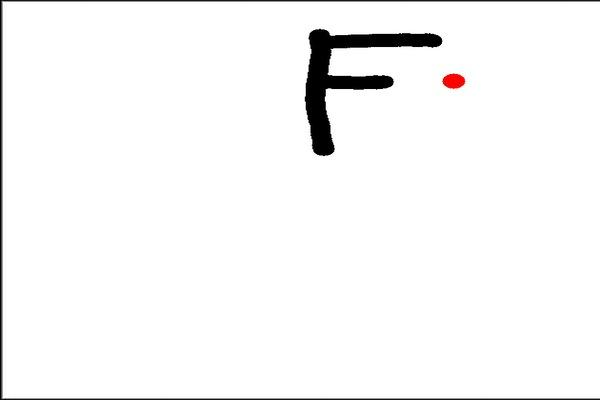F: (297, 24, 444, 157)
